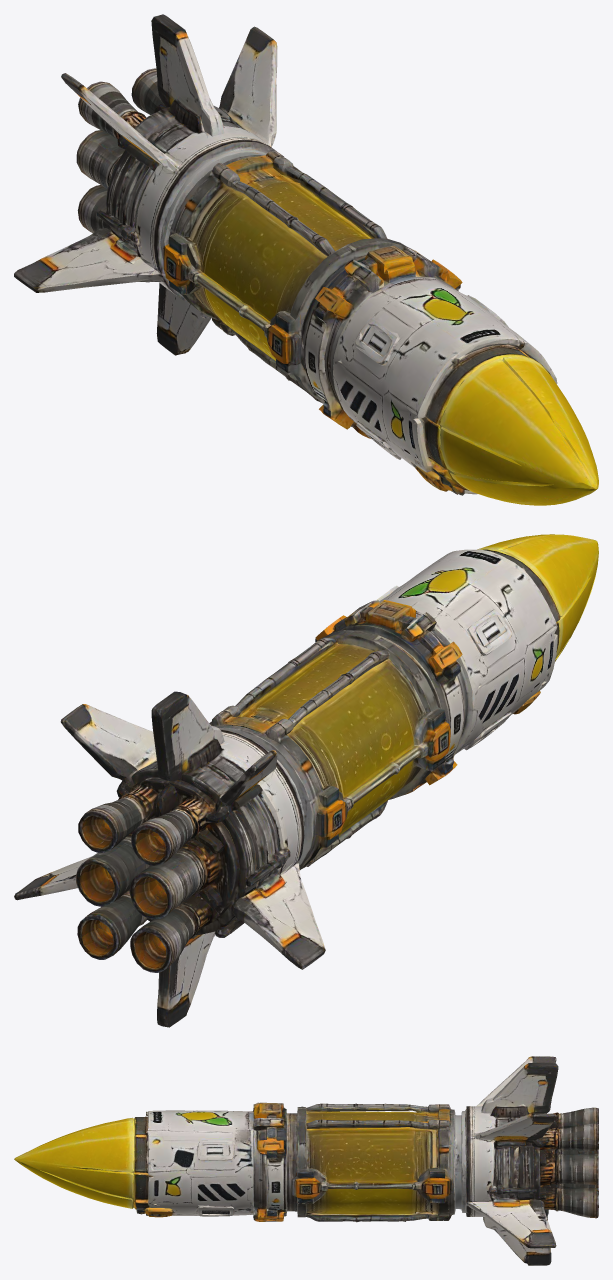
The model's file is lemonmissile.glb.
3 views of the same model, one above another, from view 1: azimuth 30°, elevation 25°; view 2: azimuth 150°, elevation 25°; view 3: azimuth 270°, elevation 25° (orthographic). The views are drawn at different scales.
Visible parts, largest first — view 1: Mesh; view 2: Mesh; view 3: Mesh.
Boxes of the visible parts, x1=… form: Mesh: x1=14, y1=14, x2=598, y2=505; Mesh: x1=14, y1=534, x2=598, y2=1027; Mesh: x1=14, y1=1056, x2=598, y2=1265.
Bounding box in the file's own units: 0.6437 × 0.6834 × 1.81.
1 material, 1 textured.
